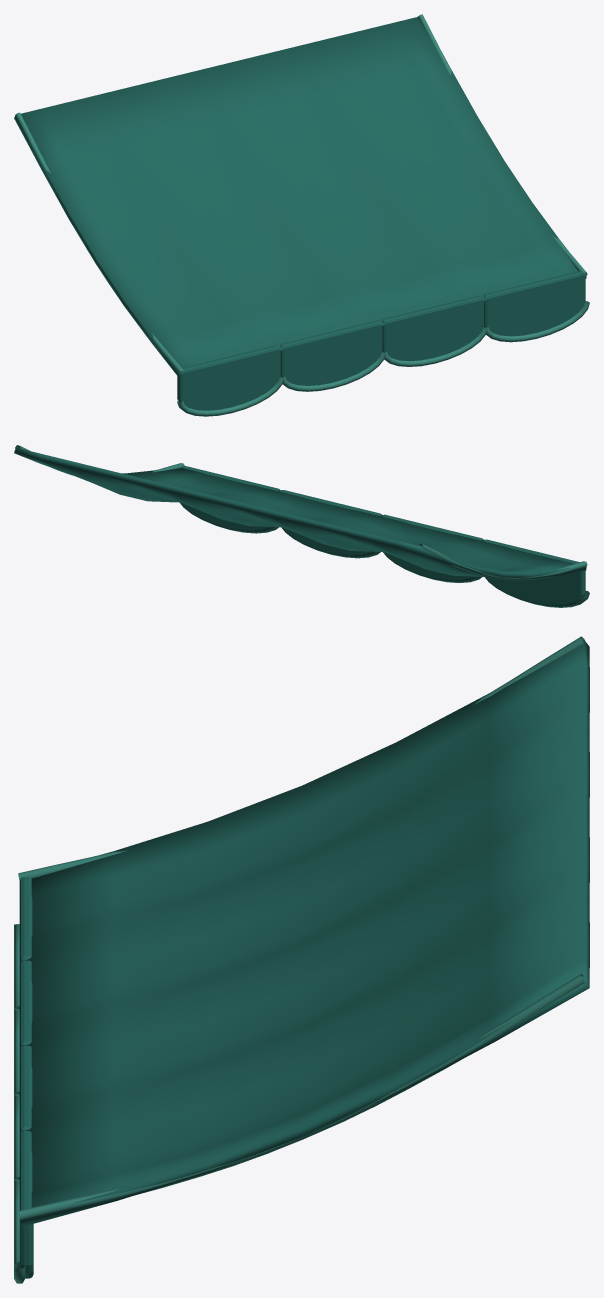
The model's file is Awning2m.fbx.
The picture shows the model from 3 angles, top to bottom: view 1: azimuth 30°, elevation 25°; view 2: azimuth 150°, elevation 25°; view 3: azimuth 270°, elevation 25°; orthographic projection. The views are drawn at different scales.
Visible parts, largest first — view 1: Awning2m_Fabric, Awning2m_FabricEdge; view 2: Awning2m_Fabric, Awning2m_FabricEdge; view 3: Awning2m_Fabric, Awning2m_FabricEdge.
Part boxes in pixels (bbox=[...]): Awning2m_Fabric: bbox=[14, 17, 586, 410]; Awning2m_FabricEdge: bbox=[15, 14, 589, 416]; Awning2m_Fabric: bbox=[14, 447, 586, 606]; Awning2m_FabricEdge: bbox=[15, 445, 589, 607]; Awning2m_Fabric: bbox=[19, 640, 589, 1278]; Awning2m_FabricEdge: bbox=[14, 636, 586, 1283].
Bounding box in the file's own units: 2.02 × 0.9022 × 1.43.
